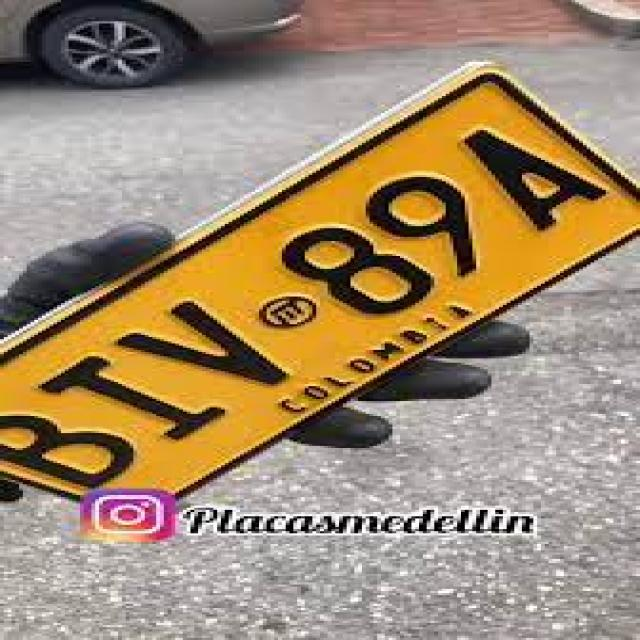placa_moto: (0, 55, 636, 526)
